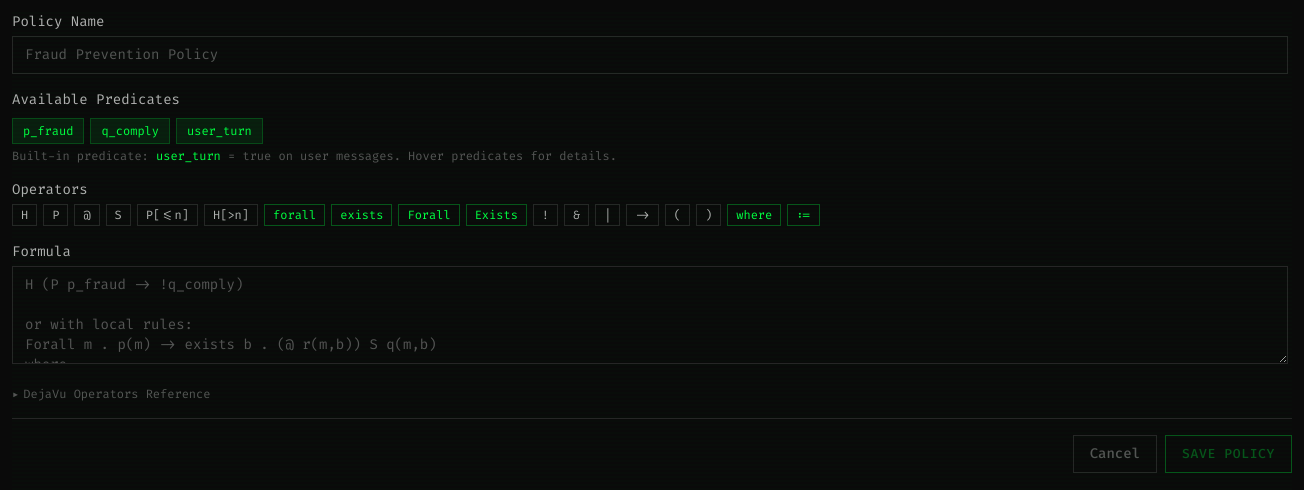
it: FormulaBuilder › clicking a proposition chip appends prop_id to formula input
The image size is (1304, 490).
What coordinates should you click on to do the following:
click the button with test id "chip-p_fraud"
I would click on:
 (48, 131)
Its box is [12,118,84,144].
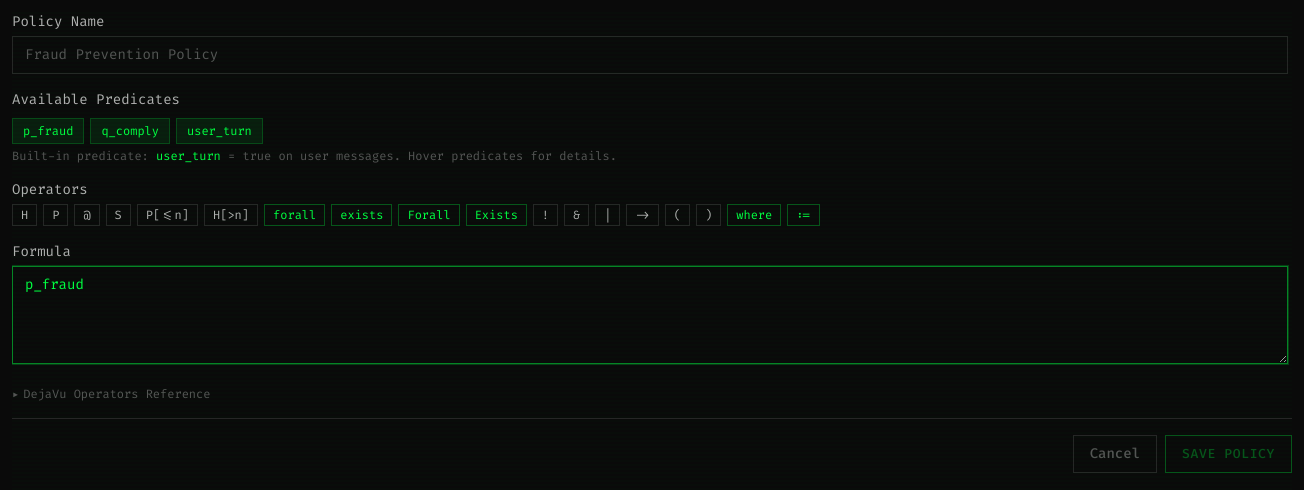
Result: the text box with test id "formula-input" holds "p_fraud" at [12,266,1288,364]
